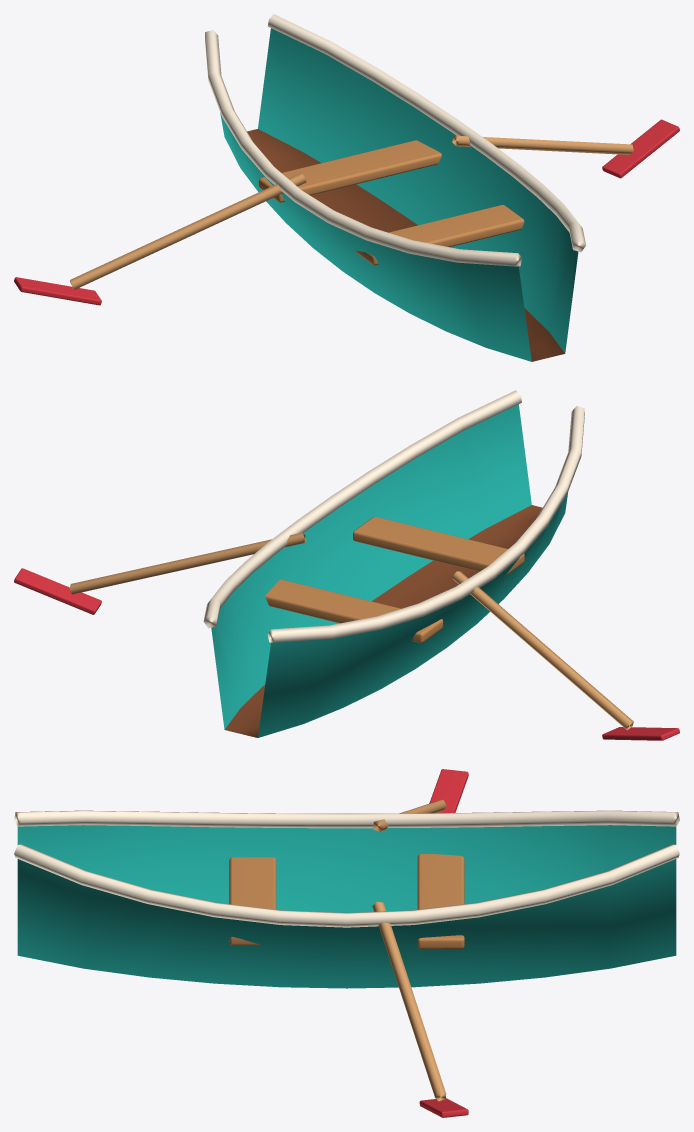
File: cove_rowboat.glb
3 renders of one model, top to bottom at view 1: azimuth 30°, elevation 25°; view 2: azimuth 150°, elevation 25°; view 3: azimuth 270°, elevation 25°, orthographic. The views are drawn at different scales.
Parts seen in each view (by area): view 1: Rowboat; view 2: Rowboat; view 3: Rowboat.
Boxes of the visible parts, x1,y1,x2,y2 form: Rowboat: (14, 14, 679, 361); Rowboat: (14, 390, 679, 740); Rowboat: (14, 769, 679, 1117).
Bounding box in the file's own units: 5.2 × 1 × 4.25.
